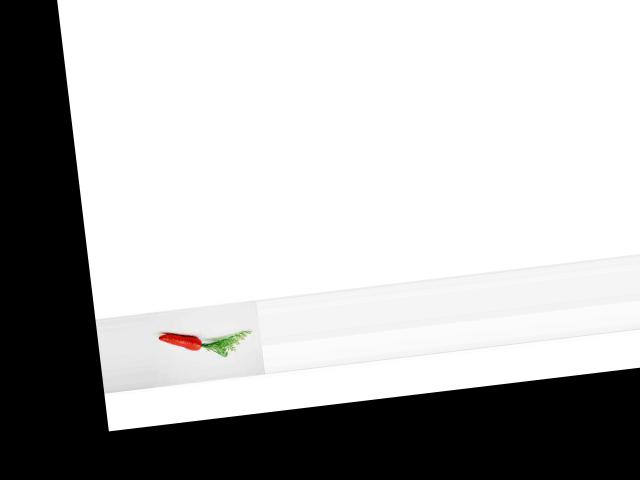carrot: (154, 321, 205, 356)
